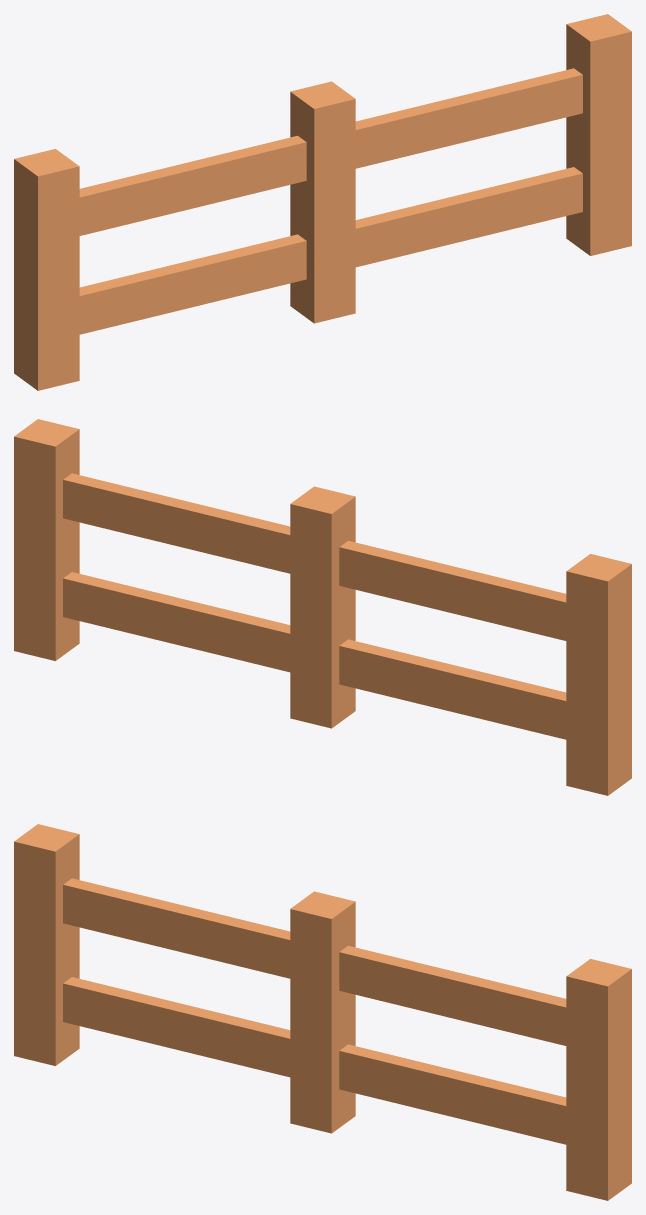
Rendered from fence_strong.obj.
3 renders of one model, top to bottom at view 1: azimuth 30°, elevation 25°; view 2: azimuth 150°, elevation 25°; view 3: azimuth 330°, elevation 25°, orthographic.
Parts seen in each view (by area): view 1: fence_strong; view 2: fence_strong; view 3: fence_strong.
Boxes of the visible parts, left/top/right/bottom form: fence_strong: left=14, top=14, right=631, bottom=390; fence_strong: left=14, top=419, right=631, bottom=795; fence_strong: left=14, top=824, right=631, bottom=1200.
Size of the model in its own units: 10 by 3.45 by 0.7.
